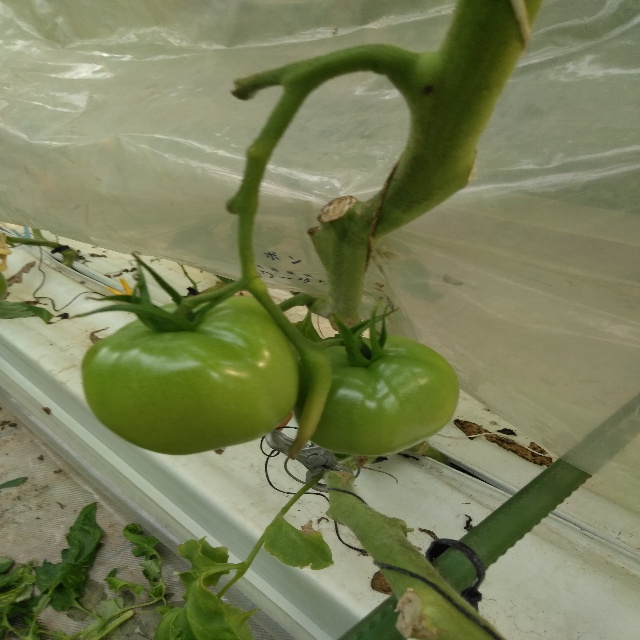b_green: (81, 295, 299, 455), (293, 334, 460, 456)
